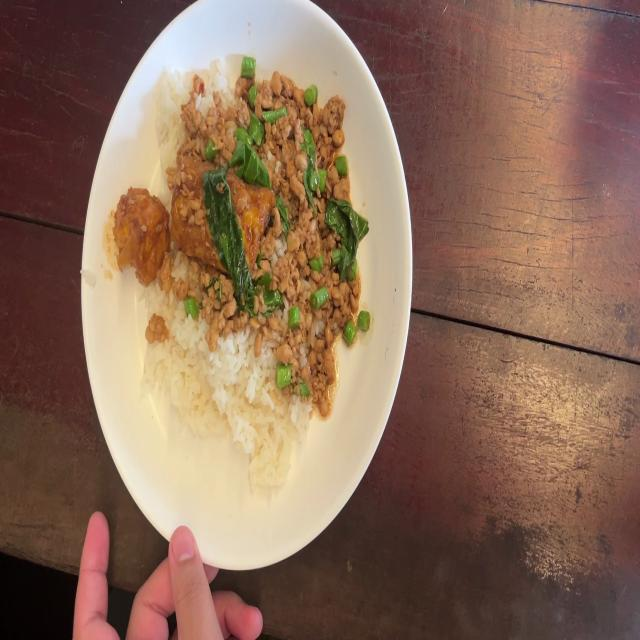01rice: (150, 334, 296, 492), (154, 61, 184, 164), (204, 58, 233, 105)
fried_tofo: (174, 159, 268, 260), (113, 185, 168, 282)
minced_pork: (273, 172, 366, 416), (192, 56, 348, 171), (182, 268, 277, 335)
stir_fried_basil: (119, 55, 374, 494)
